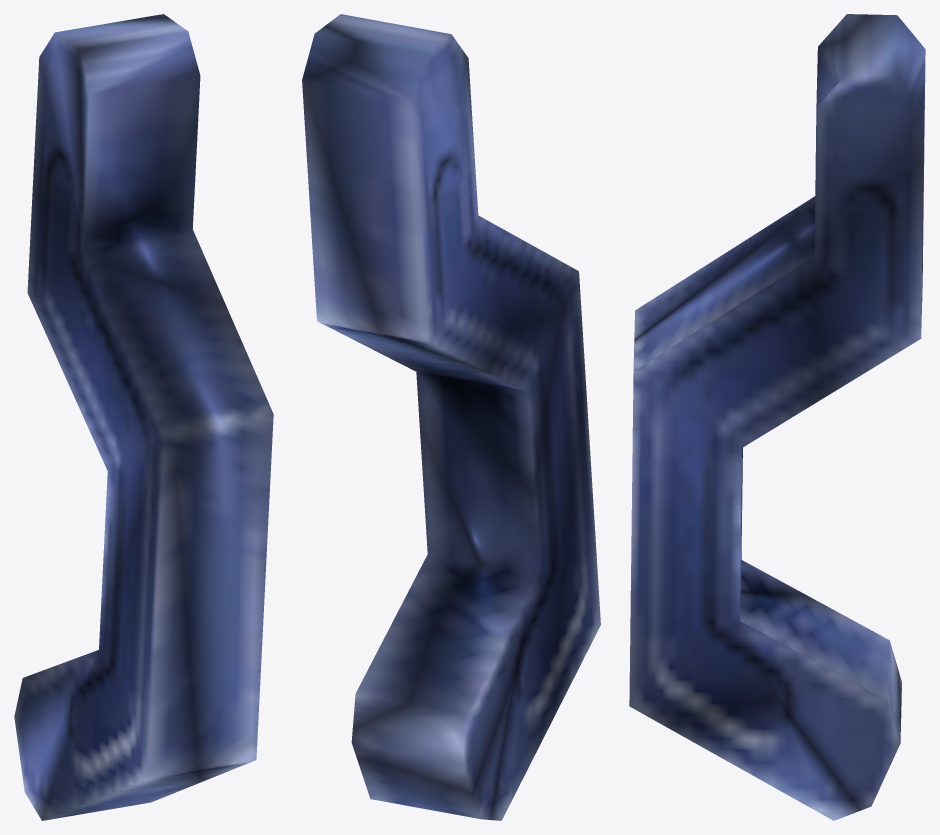
The model's file is Robot01.RightHip2.fbx.
The picture shows the model from 3 angles, left to right: view 1: azimuth 30°, elevation 25°; view 2: azimuth 150°, elevation 25°; view 3: azimuth 270°, elevation 25°; orthographic projection. The views are drawn at different scales.
Visible parts, largest first — view 1: Robot01.RightHip2; view 2: Robot01.RightHip2; view 3: Robot01.RightHip2.
Boxes of the visible parts, x1,y1,x2,y2 form: Robot01.RightHip2: (14, 14, 273, 820); Robot01.RightHip2: (302, 14, 600, 820); Robot01.RightHip2: (629, 14, 925, 820).
Bounding box in the file's own units: 9.09 × 43.77 × 15.17.
